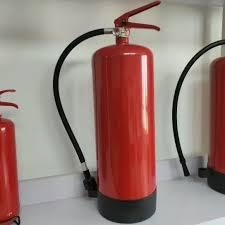floor-kept: (47, 0, 162, 225)
